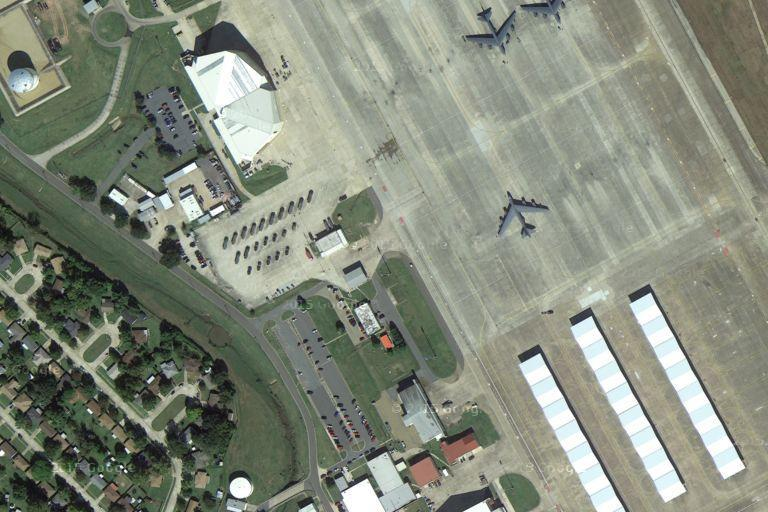B-52: (461, 5, 522, 60), (494, 187, 551, 241)
